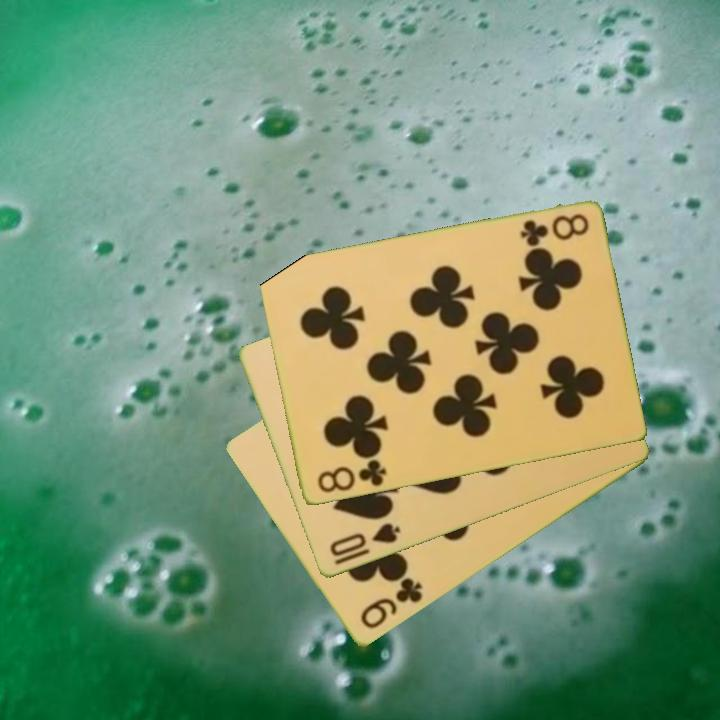10s: (326, 519, 403, 568)
8c: (313, 456, 389, 497), (516, 211, 592, 250)
9c: (356, 574, 426, 633)
